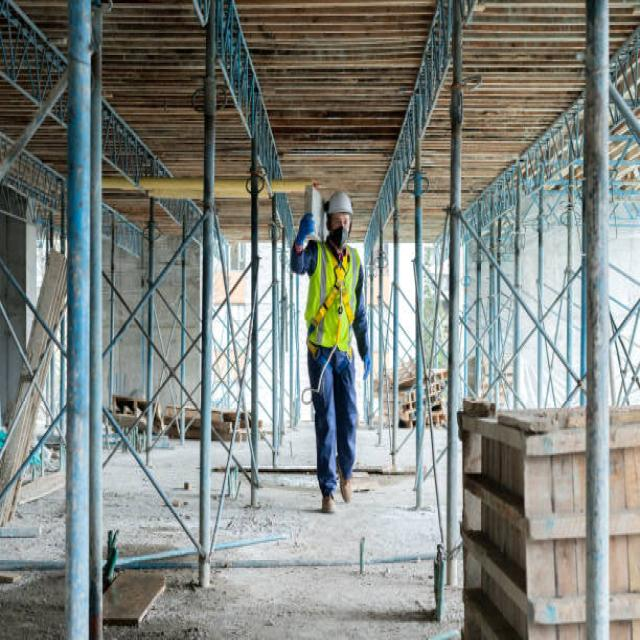Gloves: (293, 207, 316, 253), (359, 344, 375, 388)
Vest: (304, 238, 362, 362)
helmet: (326, 191, 354, 216)
person: (291, 188, 376, 516)
